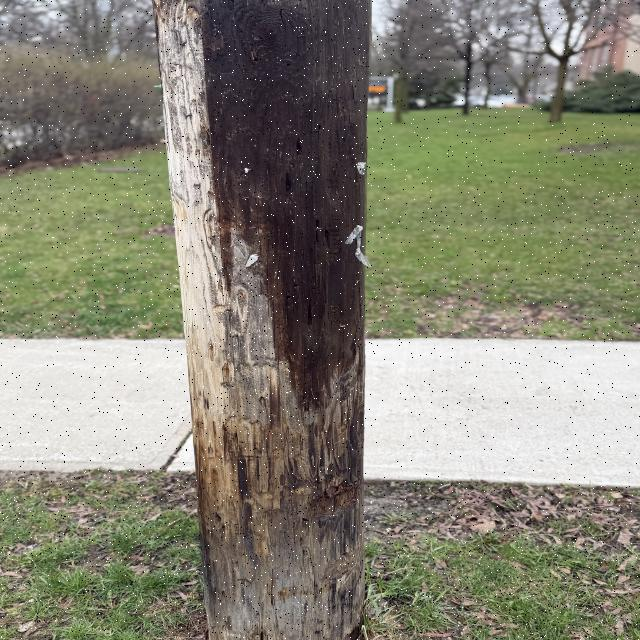Electrical Pole: (154, 2, 378, 638)
